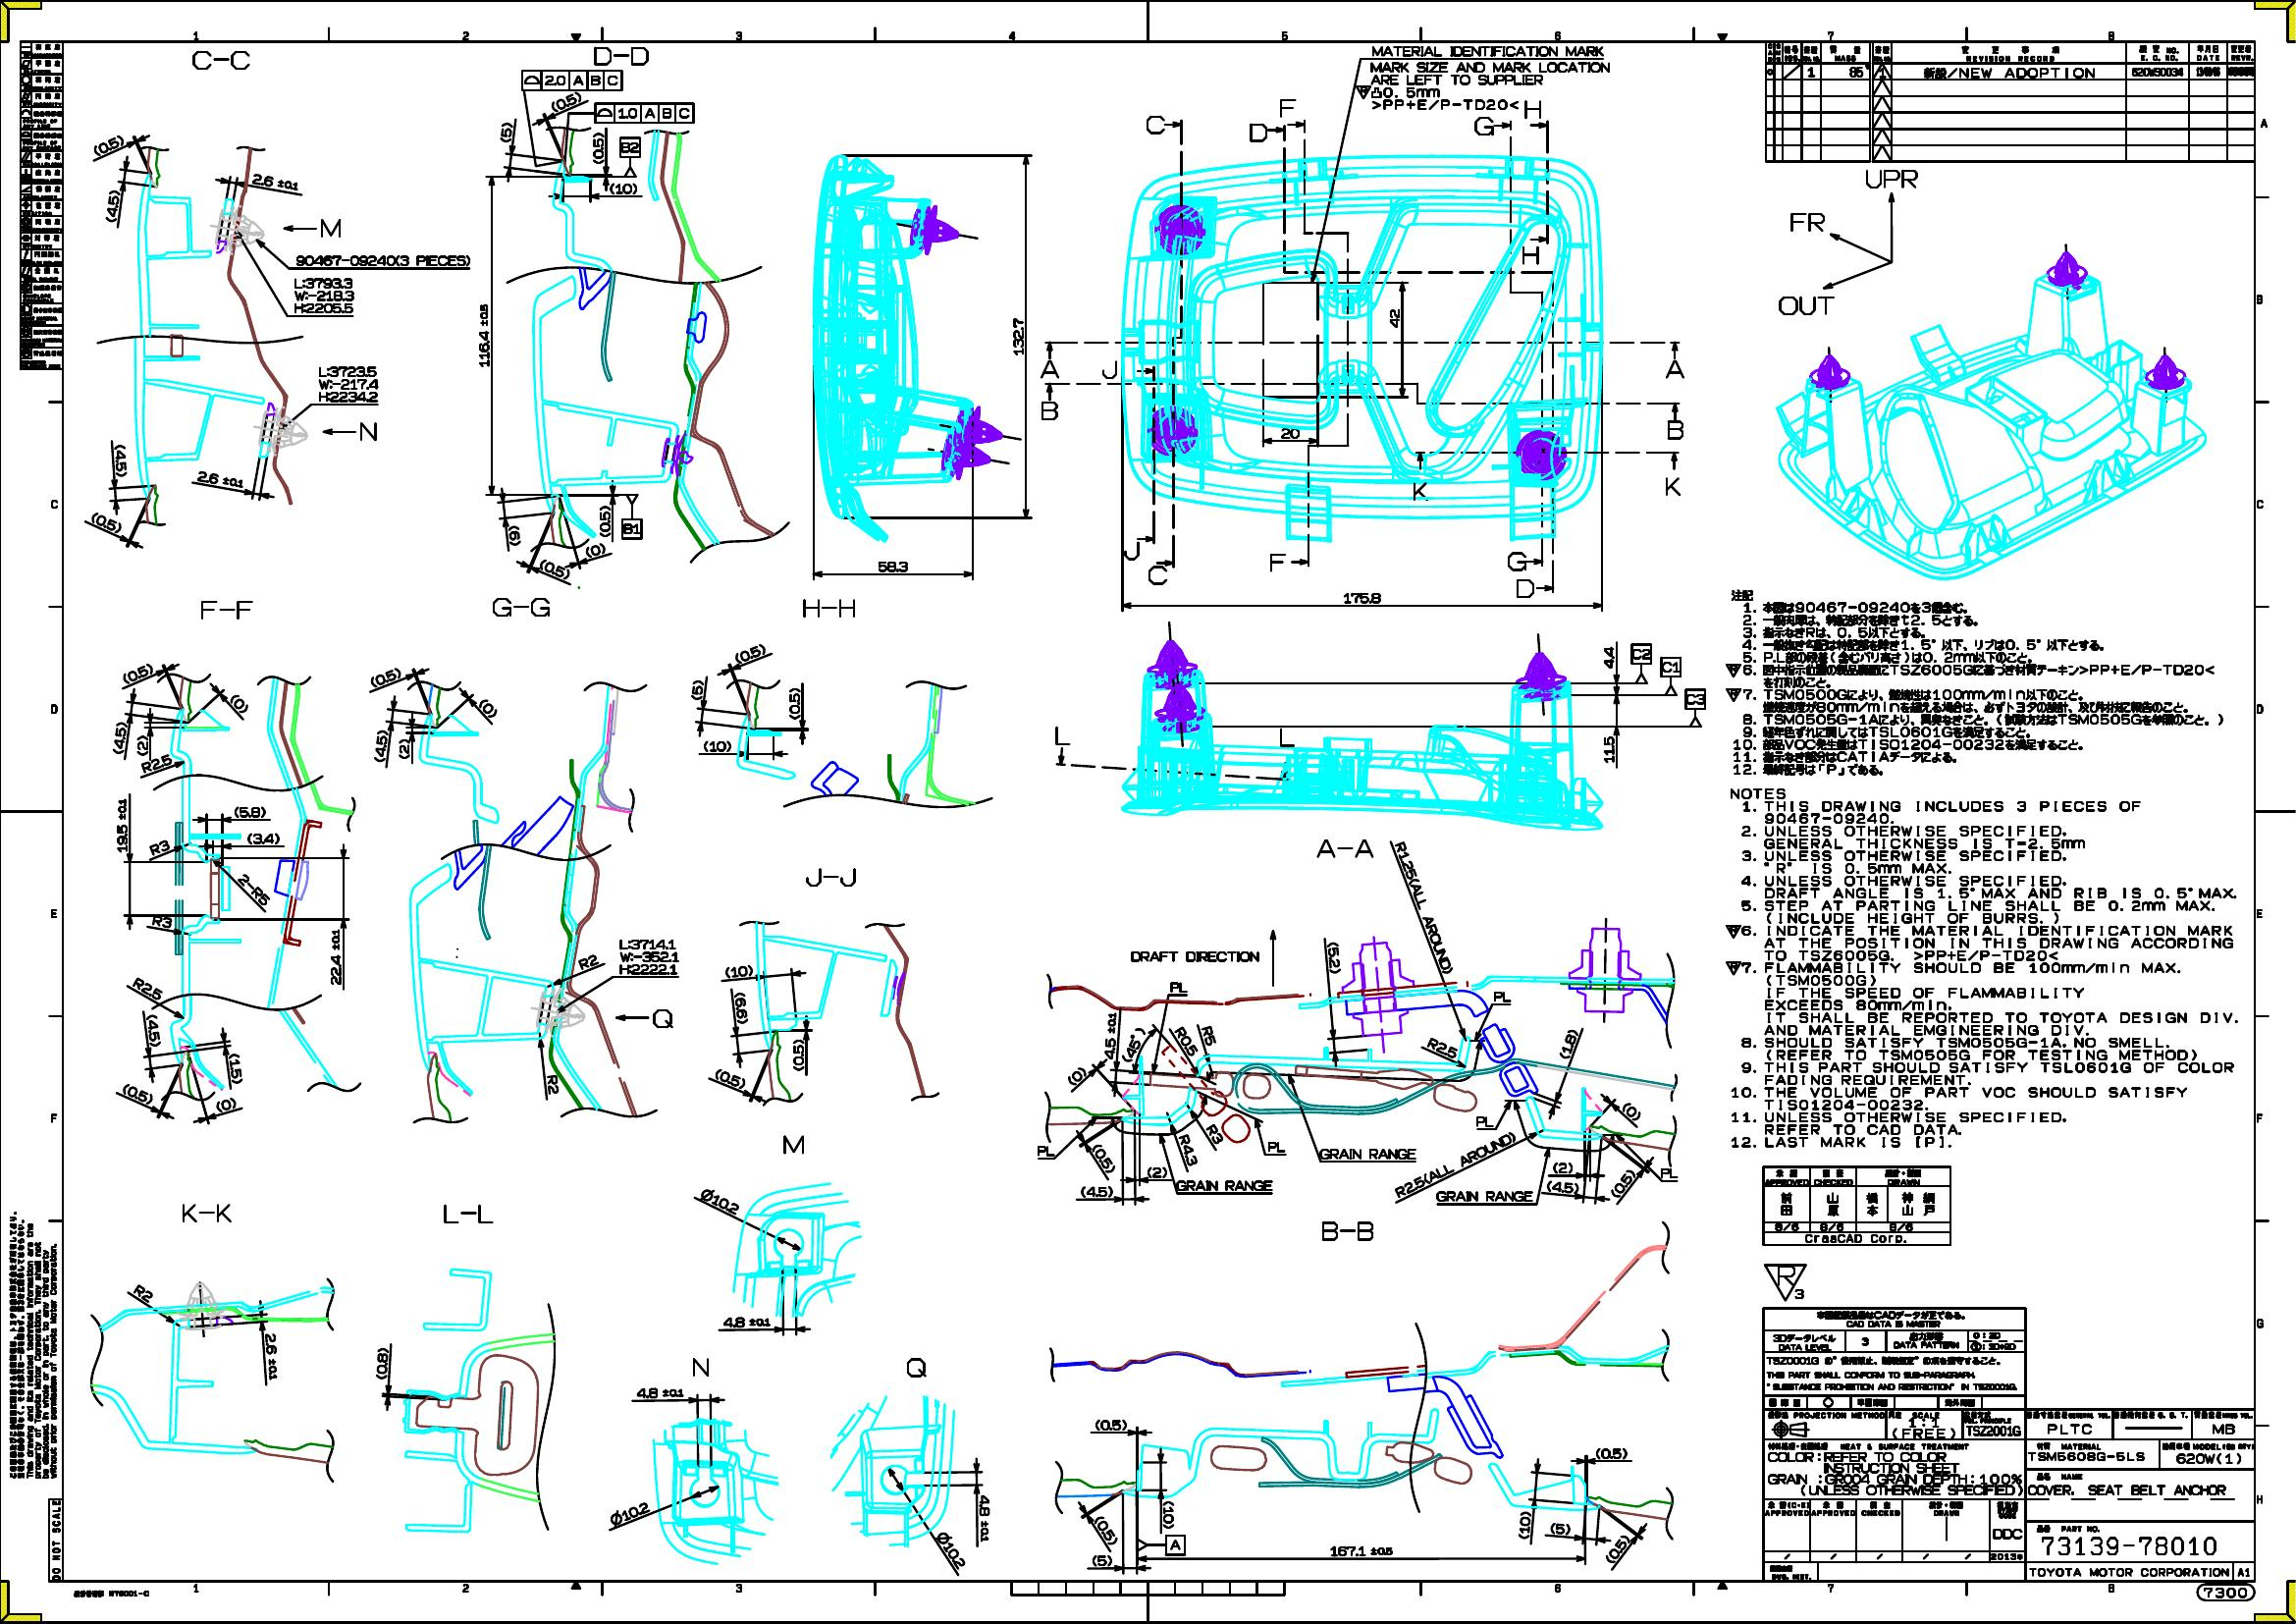anntotation_text: (1723, 786, 2242, 1149), (1725, 589, 2224, 777), (1356, 46, 1609, 111), (9, 1211, 58, 1478), (522, 70, 622, 90), (295, 255, 471, 265), (1764, 1262, 1808, 1302), (594, 104, 694, 121), (1418, 838, 1430, 977), (1388, 1158, 1521, 1171), (1130, 951, 1260, 961), (191, 49, 249, 70), (1435, 1190, 1534, 1202), (1318, 1148, 1416, 1160), (1175, 1179, 1274, 1192), (1778, 295, 1834, 316), (1316, 838, 1374, 858), (492, 598, 550, 617), (1321, 1220, 1374, 1241), (200, 599, 253, 620), (181, 1202, 232, 1223), (594, 46, 648, 65), (1866, 169, 1918, 188), (2198, 1584, 2256, 1601), (803, 598, 856, 617), (443, 1204, 494, 1223), (805, 866, 856, 886), (1790, 213, 1825, 232), (72, 1589, 149, 1596), (782, 1134, 805, 1155), (906, 1357, 926, 1378), (652, 1009, 673, 1028), (1685, 689, 1706, 708), (1660, 657, 1681, 677), (1632, 643, 1651, 664), (1507, 550, 1527, 571), (1147, 564, 1166, 585), (1145, 114, 1165, 135), (320, 218, 341, 237), (1180, 1025, 1193, 1056), (132, 982, 163, 995), (235, 884, 272, 895), (1665, 359, 1685, 378), (1474, 116, 1493, 135), (1040, 359, 1059, 378), (622, 518, 641, 538), (1523, 98, 1541, 120), (1182, 1134, 1193, 1167), (1521, 246, 1539, 265), (1166, 1534, 1184, 1554), (1054, 726, 1072, 745), (1516, 578, 1534, 598), (1279, 98, 1296, 118), (1040, 401, 1058, 420), (620, 139, 639, 156), (360, 422, 378, 441), (1426, 1042, 1458, 1053), (141, 758, 172, 768), (1101, 359, 1117, 380), (1249, 123, 1267, 141), (692, 1357, 708, 1376), (1279, 728, 1295, 747), (1667, 420, 1683, 439), (1665, 476, 1681, 496), (1412, 482, 1428, 501), (1124, 541, 1140, 561), (1270, 554, 1286, 571), (1209, 1123, 1221, 1144), (546, 1074, 559, 1095), (134, 1287, 153, 1299), (1203, 1025, 1214, 1046), (578, 956, 599, 967), (151, 916, 172, 926), (149, 842, 170, 852), (1267, 1141, 1284, 1153), (1036, 1144, 1054, 1156), (1170, 981, 1188, 993), (1493, 991, 1513, 1002), (1660, 1167, 1678, 1178), (1476, 1116, 1493, 1127)
dimension_text: (316, 366, 379, 402), (618, 939, 680, 975), (293, 278, 355, 313), (476, 302, 490, 367), (116, 798, 128, 852), (1330, 1545, 1393, 1555), (608, 1504, 650, 1520), (195, 473, 244, 485), (330, 928, 341, 984), (636, 1387, 683, 1399), (265, 1332, 278, 1380), (251, 176, 299, 188), (945, 1529, 959, 1570), (699, 1193, 740, 1207), (722, 1316, 771, 1327), (1126, 1026, 1140, 1063), (978, 1494, 989, 1541), (1105, 1011, 1116, 1058), (1342, 592, 1381, 605), (1012, 316, 1024, 355), (374, 1346, 388, 1380), (1546, 1179, 1579, 1193), (121, 666, 155, 680), (597, 504, 611, 538), (590, 132, 604, 163), (114, 443, 126, 478), (1600, 1543, 1634, 1555), (1100, 1513, 1112, 1547), (1616, 1167, 1628, 1200), (1080, 1185, 1114, 1197), (713, 1072, 747, 1084), (734, 991, 747, 1025), (121, 1088, 155, 1100), (148, 1014, 160, 1048), (374, 729, 386, 763), (733, 647, 766, 659), (90, 517, 123, 529), (1602, 735, 1616, 763), (608, 181, 636, 195), (1595, 1446, 1627, 1459), (1094, 1418, 1126, 1431), (1328, 942, 1340, 974), (792, 1039, 805, 1070), (228, 1053, 241, 1084), (114, 722, 126, 754), (93, 139, 125, 151), (1518, 1510, 1530, 1540), (724, 965, 754, 977), (878, 561, 908, 573), (246, 833, 279, 844), (369, 671, 402, 682), (538, 564, 571, 575), (107, 190, 118, 223), (703, 740, 731, 752), (1563, 1028, 1574, 1060), (1098, 1142, 1108, 1174), (234, 807, 265, 817), (789, 687, 799, 719), (550, 97, 581, 107), (1066, 1069, 1087, 1083), (585, 541, 606, 555), (499, 121, 513, 142), (214, 1098, 237, 1111), (508, 524, 520, 547), (1163, 1501, 1173, 1527), (1549, 1522, 1570, 1534), (1091, 1554, 1112, 1566), (1551, 1162, 1572, 1174), (397, 738, 409, 759), (1602, 647, 1614, 668), (1621, 1106, 1641, 1118), (690, 680, 703, 700), (1281, 427, 1300, 439), (137, 735, 148, 756), (228, 698, 249, 708), (478, 703, 499, 714), (1390, 308, 1400, 329), (1147, 1167, 1166, 1178)
object: (1119, 153, 1604, 541), (1051, 1244, 1674, 1520), (1045, 916, 1674, 1153), (1774, 241, 2208, 580), (531, 128, 775, 550), (1121, 620, 1604, 831), (408, 684, 636, 1123), (812, 155, 1022, 545), (169, 675, 355, 1098), (132, 146, 293, 524), (90, 1280, 336, 1462), (402, 1267, 555, 1534), (754, 919, 926, 1100), (734, 682, 975, 807), (829, 1394, 956, 1547), (652, 1417, 780, 1564), (731, 1179, 863, 1316)
title_block: (1762, 1308, 2254, 1582), (1765, 40, 2254, 162), (1762, 1167, 1950, 1244), (21, 40, 63, 369)
